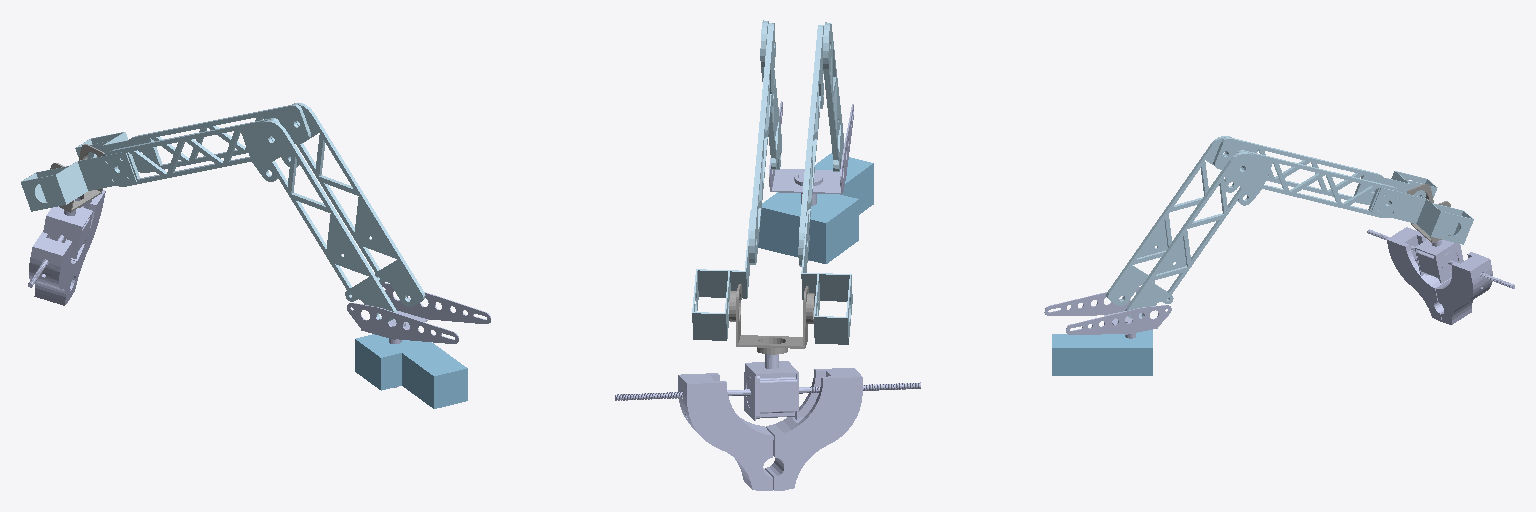
The robot description file, URDF, robot "arm_description":
<?xml version="1.0" ?>
<!-- This URDF was automatically created by SolidWorks to URDF Exporter! Originally created by [author] ([email redacted]) 
     Commit Version: 1.6.0-4-g7f85cfe  Build Version: 1.6.7995.38578
     For more information, please see http://wiki.ros.org/sw_urdf_exporter -->
<robot
  name="arm_description">
  <link
    name="base_link">
    <inertial>
      <origin
        xyz="0.00810040629387061 -0.0396616619639222 0.028"
        rpy="0 0 0" />
      <mass
        value="0.766684967151914" />
      <inertia
        ixx="0.0022667110439234"
        ixy="0.000316230845415983"
        ixz="1.80657701906993E-20"
        iyy="0.000710688821500799"
        iyz="-2.52998903801764E-21"
        izz="0.00257667918925946" />
    </inertial>
    <visual>
      <origin
        xyz="0 0 0"
        rpy="0 0 0" />
      <geometry>
        <mesh
          filename="package://arm_description/meshes/base_link.STL" />
      </geometry>
      <material
        name="">
        <color
          rgba="0.615686274509804 0.811764705882353 0.929411764705882 1" />
      </material>
    </visual>
    <collision>
      <origin
        xyz="0 0 0"
        rpy="0 0 0" />
      <geometry>
        <mesh
          filename="package://arm_description/meshes/base_link.STL" />
      </geometry>
    </collision>
  </link>
  <link
    name="rotating_base">
    <inertial>
      <origin
        xyz="0.00615100835492018 -0.012725958880778 0.0222536559801734"
        rpy="0 0 0" />
      <mass
        value="0.0631299235148627" />
      <inertia
        ixx="0.000116167220418234"
        ixy="1.24601951121971E-05"
        ixz="-4.43208090595218E-06"
        iyy="9.63822950524819E-05"
        iyz="9.20452852669657E-06"
        izz="0.000143318608255073" />
    </inertial>
    <visual>
      <origin
        xyz="0 0 0"
        rpy="0 0 0" />
      <geometry>
        <mesh
          filename="package://arm_description/meshes/rotating_base.STL" />
      </geometry>
      <material
        name="">
        <color
          rgba="0.792156862745098 0.819607843137255 0.933333333333333 1" />
      </material>
    </visual>
    <collision>
      <origin
        xyz="0 0 0"
        rpy="0 0 0" />
      <geometry>
        <mesh
          filename="package://arm_description/meshes/rotating_base.STL" />
      </geometry>
    </collision>
  </link>
  <joint
    name="rotating_base"
    type="continuous">
    <origin
      xyz="0 0 0.056"
      rpy="0 0 0" />
    <parent
      link="base_link" />
    <child
      link="rotating_base" />
    <axis
      xyz="0 0 1" />
  </joint>
  <link
    name="shoulder">
    <inertial>
      <origin
        xyz="-0.0339620564322988 0.0703250132877751 0.132304801374624"
        rpy="0 0 0" />
      <mass
        value="0.176248600181812" />
      <inertia
        ixx="0.00223065038773932"
        ixy="0.000396791830011183"
        ixz="0.000489233644916762"
        iyy="0.00159481284845064"
        iyz="-0.0010186151481865"
        izz="0.00101836502973383" />
    </inertial>
    <visual>
      <origin
        xyz="0 0 0"
        rpy="0 0 0" />
      <geometry>
        <mesh
          filename="package://arm_description/meshes/shoulder.STL" />
      </geometry>
      <material
        name="">
        <color
          rgba="0.768627450980392 0.886274509803922 0.952941176470588 1" />
      </material>
    </visual>
    <collision>
      <origin
        xyz="0 0 0"
        rpy="0 0 0" />
      <geometry>
        <mesh
          filename="package://arm_description/meshes/shoulder.STL" />
      </geometry>
    </collision>
  </link>
  <joint
    name="shoulder_joint"
    type="revolute">
    <origin
      xyz="-0.010837 0.022529 0.056"
      rpy="0 0 0" />
    <parent
      link="rotating_base" />
    <child
      link="shoulder" />
    <axis
      xyz="-0.90116 -0.43349 0" />
    <limit
      lower="-1.0"
      upper="+1.0"
      effort="100"
      velocity="50" />
  </joint>
  <link
    name="elbow">
    <inertial>
      <origin
        xyz="-0.105032649982549 0.218343898382363 -0.109693664665305"
        rpy="0 0 0" />
      <mass
        value="0.359561959940994" />
      <inertia
        ixx="0.00277816604176355"
        ixy="0.00101770917295484"
        ixz="-0.000461304534661371"
        iyy="0.00115209374230397"
        iyz="0.000958968763105053"
        izz="0.0027802252659199" />
    </inertial>
    <visual>
      <origin
        xyz="0 0 0"
        rpy="0 0 0" />
      <geometry>
        <mesh
          filename="package://arm_description/meshes/elbow.STL" />
      </geometry>
      <material
        name="">
        <color
          rgba="0.768627450980392 0.886274509803922 0.952941176470588 1" />
      </material>
    </visual>
    <collision>
      <origin
        xyz="0 0 0"
        rpy="0 0 0" />
      <geometry>
        <mesh
          filename="package://arm_description/meshes/elbow.STL" />
      </geometry>
    </collision>
  </link>
  <joint
    name="elbow_joint"
    type="revolute">
    <origin
      xyz="-0.076999 0.16007 0.25168"
      rpy="0 0 0" />
    <parent
      link="shoulder" />
    <child
      link="elbow" />
    <axis
      xyz="0.90116 0.43349 0" />
    <limit
      lower="-1.0"
      upper="+1.0"
      effort="100"
      velocity="50" />
  </joint>
  <link
    name="differential">
    <inertial>
      <origin
        xyz="-0.00159944501821485 0.00452468977314691 -0.0236876564208104"
        rpy="0 0 0" />
      <mass
        value="0.226861267973199" />
      <inertia
        ixx="0.000221479108955072"
        ixy="-9.83056402005241E-05"
        ixz="-5.51111312855736E-06"
        iyy="0.000378527038374379"
        iyz="1.15575520958708E-05"
        izz="0.000364824771947718" />
    </inertial>
    <visual>
      <origin
        xyz="0 0 0"
        rpy="0 0 0" />
      <geometry>
        <mesh
          filename="package://arm_description/meshes/differential.STL" />
      </geometry>
      <material
        name="">
        <color
          rgba="0.698039215686274 0.698039215686274 0.698039215686274 1" />
      </material>
    </visual>
    <collision>
      <origin
        xyz="0 0 0"
        rpy="0 0 0" />
      <geometry>
        <mesh
          filename="package://arm_description/meshes/differential.STL" />
      </geometry>
    </collision>
  </link>
  <joint
    name="differential_joint"
    type="revolute">
    <origin
      xyz="-0.16999 0.35223 -0.17384"
      rpy="0 0 0" />
    <parent
      link="elbow" />
    <child
      link="differential" />
    <axis
      xyz="-0.90116 -0.43349 0" />
    <limit
      lower="-1.0"
      upper="+1.0"
      effort="100"
      velocity="50" />
  </joint>
  <link
    name="differential_rotation">
    <inertial>
      <origin
        xyz="-0.00727312304980049 0.01712785050821 -0.0933402352068741"
        rpy="0 0 0" />
      <mass
        value="0.187019685283195" />
      <inertia
        ixx="0.00010126064539545"
        ixy="-1.29495933089213E-05"
        ixz="-1.32340475388287E-06"
        iyy="0.000103469301148276"
        iyz="-6.03325193113658E-07"
        izz="0.000113024023027209" />
    </inertial>
    <visual>
      <origin
        xyz="0 0 0"
        rpy="0 0 0" />
      <geometry>
        <mesh
          filename="package://arm_description/meshes/differential_rotation.STL" />
      </geometry>
      <material
        name="">
        <color
          rgba="0.792156862745098 0.819607843137255 0.933333333333333 1" />
      </material>
    </visual>
    <collision>
      <origin
        xyz="0 0 0"
        rpy="0 0 0" />
      <geometry>
        <mesh
          filename="package://arm_description/meshes/differential_rotation.STL" />
      </geometry>
    </collision>
  </link>
  <joint
    name="differential_rotation_joint"
    type="revolute">
    <origin
      xyz="-0.0008559 0.0017793 -0.0098032"
      rpy="0 0 0" />
    <parent
      link="differential" />
    <child
      link="differential_rotation" />
    <axis
      xyz="-0.085589 0.17792 -0.98031" />
    <limit
      lower="-1.0"
      upper="+1.0"
      effort="100"
      velocity="50" />
  </joint>
  <link
    name="actuator">
    <inertial>
      <origin
        xyz="-0.00295100966277212 0.00900491591246533 -0.0446999084847799"
        rpy="0 0 0" />
      <mass
        value="0.634947401204779" />
      <inertia
        ixx="0.00114104988572515"
        ixy="-0.000230745160508774"
        ixz="-7.40417823241837E-05"
        iyy="0.00116755297692799"
        iyz="9.18155304846846E-05"
        izz="0.000795800850137349" />
    </inertial>
    <visual>
      <origin
        xyz="0 0 0"
        rpy="0 0 0" />
      <geometry>
        <mesh
          filename="package://arm_description/meshes/actuator.STL" />
      </geometry>
      <material
        name="">
        <color
          rgba="0.792156862745098 0.819607843137255 0.933333333333333 1" />
      </material>
    </visual>
    <collision>
      <origin
        xyz="0 0 0"
        rpy="0 0 0" />
      <geometry>
        <mesh
          filename="package://arm_description/meshes/actuator.STL" />
      </geometry>
    </collision>
  </link>
  <joint
    name="actuator_joint"
    type="revolute">
    <origin
      xyz="-0.0079235 0.016811 -0.094695"
      rpy="0 0 0" />
    <parent
      link="differential_rotation" />
    <child
      link="actuator" />
    <axis
      xyz="0.73596 0.67453 0.05817" />
    <limit
      lower="-1.0"
      upper="+1.0"
      effort="100"
      velocity="50" />
  </joint>
</robot>

--- Render facts (derived) ---
3 views of the same robot in one strip: view 1: azimuth 30°, elevation 25°; view 2: azimuth 150°, elevation 25°; view 3: azimuth 270°, elevation 25° (orthographic).
Model arm_description with 7 links and 6 joints (5 revolute, 1 continuous), rooted at base_link, posed all joints at 0.
Links seen in each view (by area): view 1: elbow, shoulder, base_link, rotating_base, actuator, differential_rotation, differential; view 2: actuator, elbow, base_link, differential_rotation, shoulder, rotating_base, differential; view 3: elbow, shoulder, actuator, base_link, rotating_base, differential_rotation.
Boxes of the visible links, x1,y1,x2,y2 form: elbow: (21,104,310,211); shoulder: (256,103,425,321); base_link: (355,334,467,408); rotating_base: (347,283,490,387); actuator: (29,190,105,305); differential_rotation: (28,200,92,287); differential: (50,144,104,212); actuator: (678,368,862,490); elbow: (692,23,852,344); base_link: (758,153,873,263); differential_rotation: (615,354,920,420); shoulder: (760,20,843,171); rotating_base: (769,101,853,260); differential: (729,284,814,354); elbow: (1213,137,1473,244); shoulder: (1106,136,1257,318); actuator: (1387,227,1492,324); base_link: (1052,330,1152,375); rotating_base: (1044,287,1171,338); differential_rotation: (1367,229,1514,288).
Bounding box of the posed robot: 0.5135 × 0.8434 × 0.4316 m (x, y, z).
7 mesh visuals loaded from 7 distinct referenced files (7 binary STL).